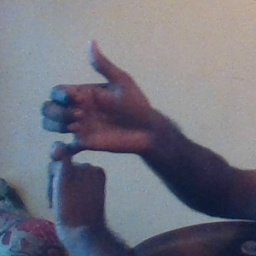S: (32, 36, 160, 228)
